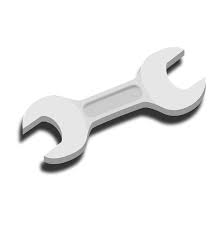wrench: (13, 43, 212, 172)
